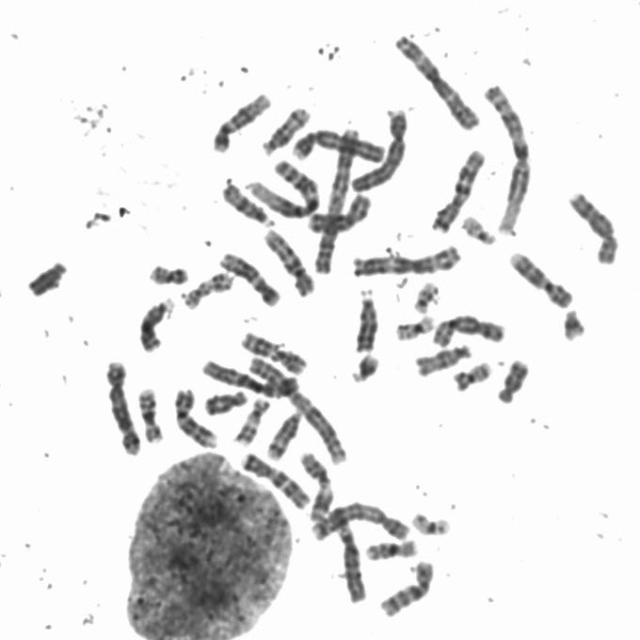A1: (481, 77, 535, 236), (244, 155, 322, 221)
A2: (243, 351, 348, 466), (311, 122, 366, 276)
A3: (388, 29, 484, 131), (348, 238, 464, 278)
B4: (348, 103, 412, 193), (289, 124, 388, 164)
B5: (307, 496, 411, 542), (101, 354, 143, 456)
C10: (259, 222, 317, 298), (374, 554, 438, 619)
C11: (237, 326, 309, 376), (294, 447, 334, 523)
C12: (207, 87, 273, 154), (216, 246, 284, 308)
C6: (324, 500, 369, 605), (198, 355, 296, 398)
C7: (428, 144, 488, 234), (238, 447, 313, 510)
C8: (565, 186, 622, 266), (428, 308, 508, 348)
C9: (504, 246, 576, 309), (170, 382, 220, 451)
D13: (135, 292, 177, 354), (351, 282, 380, 354)
D14: (257, 101, 312, 157), (262, 405, 306, 461)
D15: (216, 177, 276, 227), (412, 338, 474, 378)
E16: (134, 382, 166, 444), (360, 534, 420, 562)
E17: (178, 265, 235, 311), (230, 393, 272, 446)
E18: (492, 353, 532, 405), (200, 384, 250, 417)
F19: (391, 310, 436, 341), (408, 507, 453, 537)
F20: (449, 356, 495, 392), (144, 259, 191, 286)
G21: (346, 348, 382, 384), (558, 304, 588, 342)
G22: (457, 210, 499, 246), (409, 277, 442, 314)
X: (302, 188, 374, 235)
Y: (22, 254, 70, 299)
